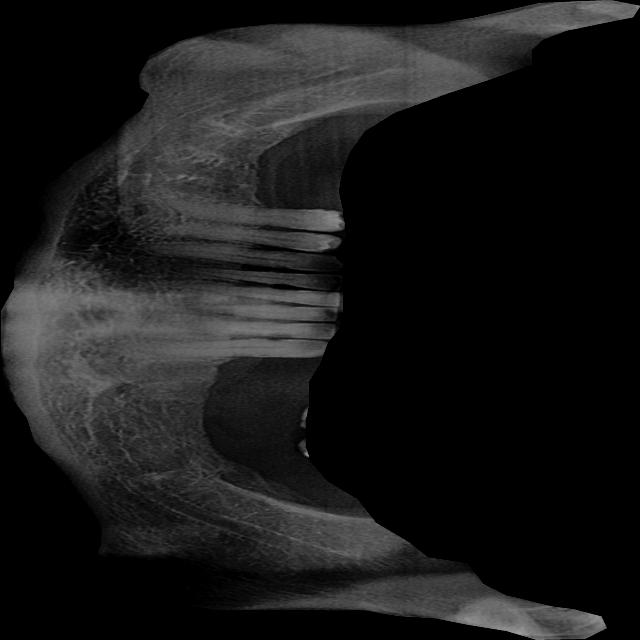mandibula: (0, 0, 640, 640)
